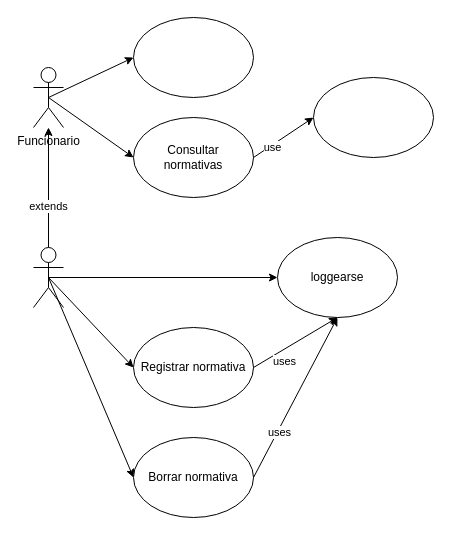
The diagram is 451 pixels wide and 535 high, and some of its shapes have lost their labels. The shapes that lost their labels are listed below. From the top down, each one's centre as x and y in pixels, then its label:
At (193,57): "Subscribirse normativas".
At (373,117): "Buscar normativa".
At (48,277): "Registrador".
